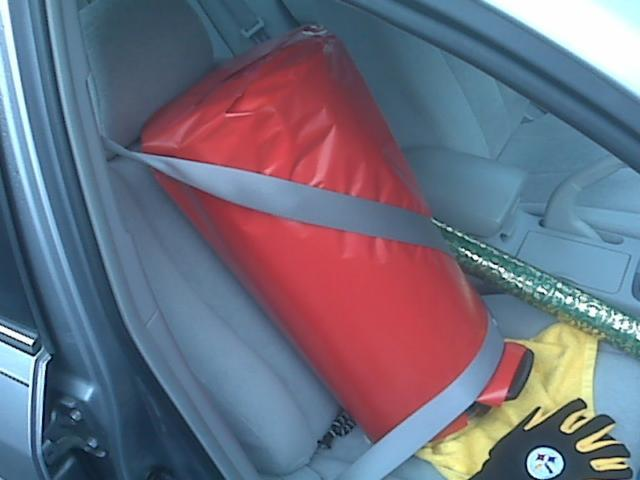Seatbelt: (101, 134, 507, 480)
